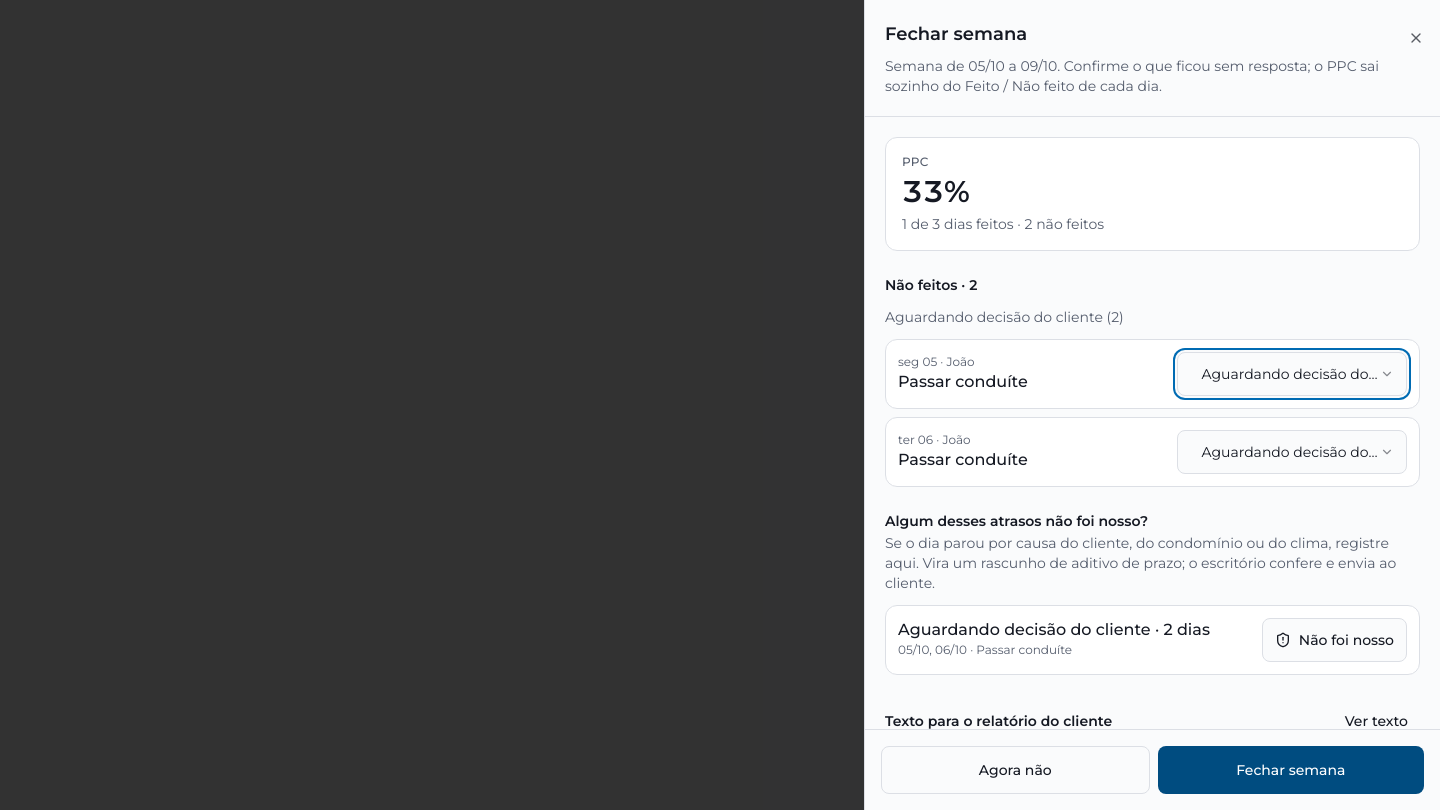
Scenario: CloseWeekSheet › aditivo em 2 toques › agrupa os não feitos pelo motivo e registra o rascunho com motivo, dias, descrição e fotos
Later steps or results of the test are not shown.
Expected: the heading "Algum desses atrasos não foi nosso?" is shown, left=885, top=512, right=1148, bottom=530
Expected: the text "Aguardando decisão do cliente · 2 dias" is shown, left=898, top=618, right=1210, bottom=642
#  Toque 1
Click the button with aria-label "Não foi nosso: Aguardando decisão do cliente".
click(1334, 640)  # box left=1262, top=618, right=1407, bottom=662
(page scrolled)
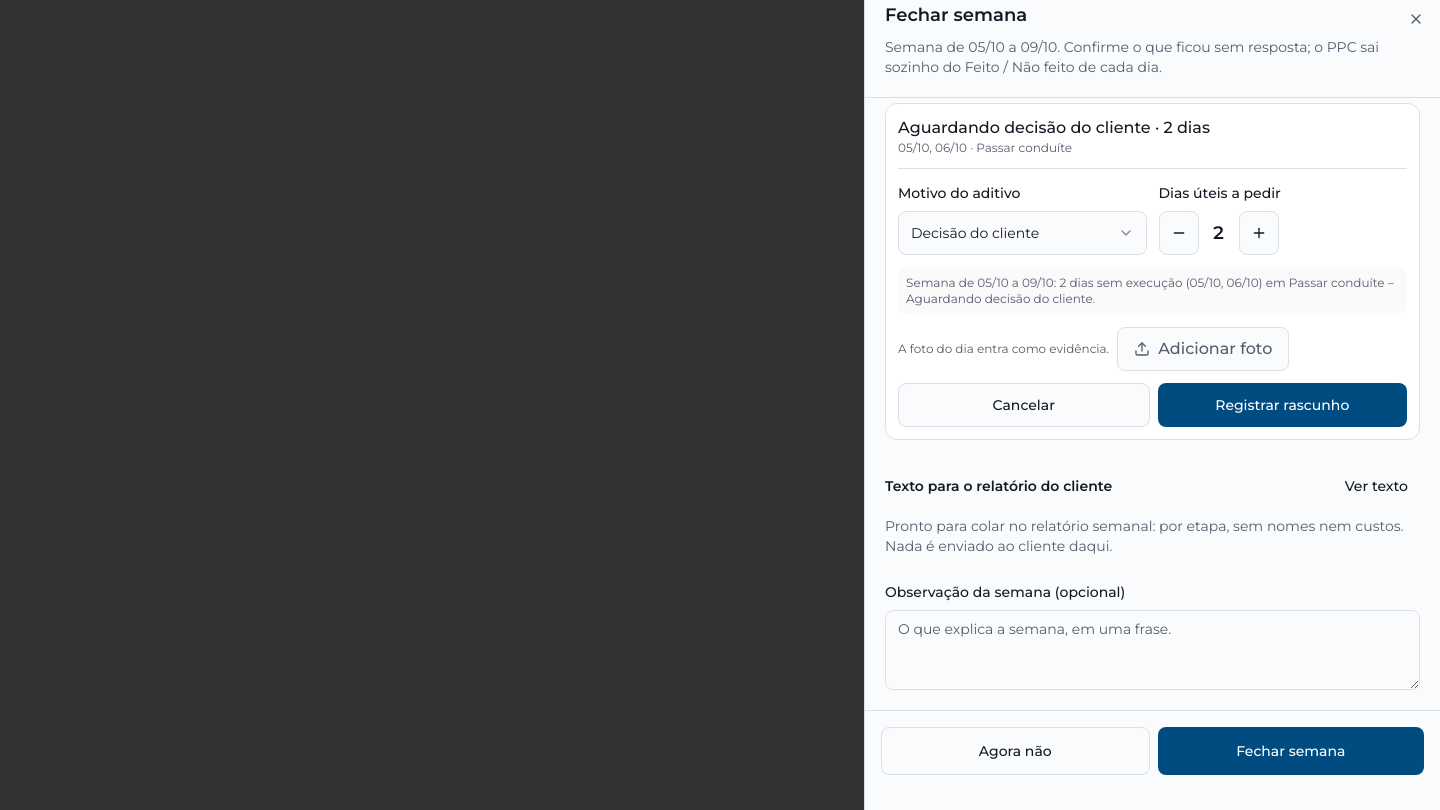
Result: the text "A foto do dia entra como evidência." is shown at left=898, top=340, right=1109, bottom=358
